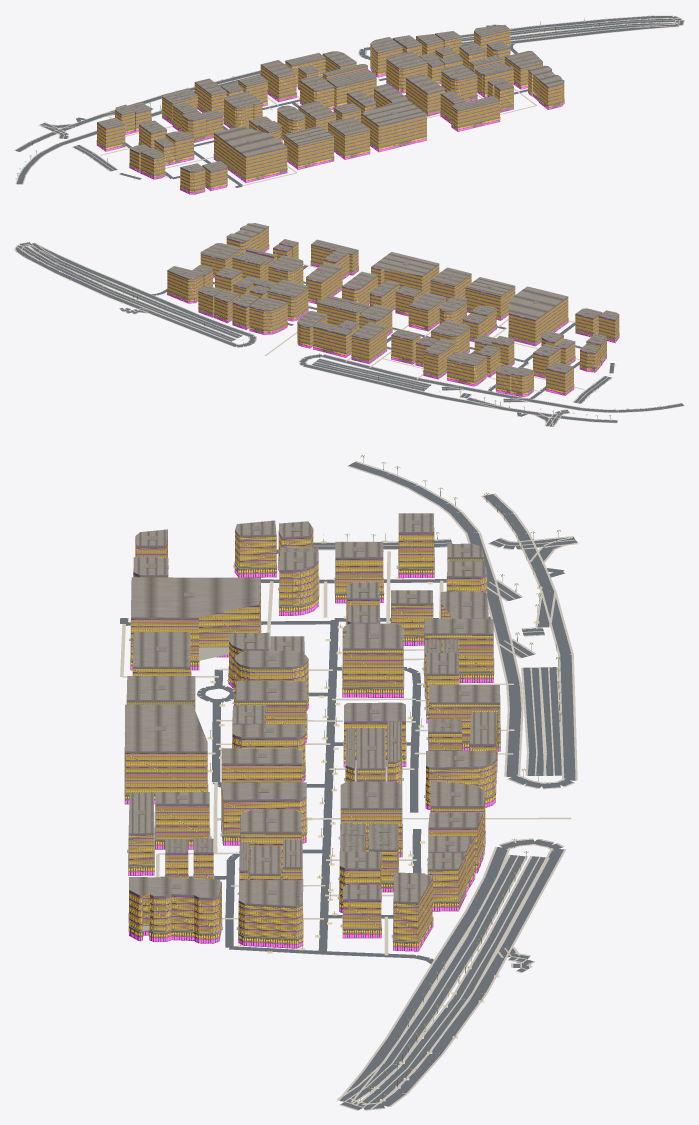
Rendered from urban-north-stage6.glb.
3 views of the same model, one above another, from view 1: azimuth 30°, elevation 25°; view 2: azimuth 150°, elevation 25°; view 3: azimuth 270°, elevation 25° (orthographic). The views are drawn at different scales.
Visible parts, largest first — view 1: urban-street-north-roads, urban-hotel-716-N163, urban-street-north-sidewalks, urban-hotel-702-N156, urban-hotel-704-N158, urban-hotel-2157-N157, urban-hotel-701-N103, urban-hotel-706-N101, urban-hotel-730-N132, urban-hotel-707-N115, urban-hotel-726-N142, urban-hotel-2116-N116 (+44 smaller); view 2: urban-street-north-roads, urban-street-north-sidewalks, urban-hotel-716-N163, urban-hotel-702-N156, urban-hotel-704-N158, urban-hotel-2127-N127, urban-hotel-730-N132, urban-hotel-2138-N138, urban-hotel-707-N115, urban-hotel-731-N130, urban-hotel-729-N123, urban-hotel-2116-N116 (+36 smaller); view 3: urban-street-north-roads, urban-street-north-sidewalks, urban-hotel-716-N163, urban-hotel-702-N156, urban-hotel-706-N101, urban-hotel-726-N142, urban-hotel-715-N109, urban-street-north-promenades, urban-hotel-707-N115, urban-hotel-2137-N137, urban-hotel-729-N123, urban-hotel-2116-N116 (+36 smaller).
Part boxes in pixels (box(x1,y1,x2,y2)): urban-street-north-roads: box(15, 16, 683, 187); urban-hotel-716-N163: box(213, 126, 287, 182); urban-street-north-sidewalks: box(14, 15, 684, 184); urban-hotel-702-N156: box(361, 99, 427, 152); urban-hotel-704-N158: box(284, 126, 334, 169); urban-hotel-2157-N157: box(328, 116, 370, 159); urban-hotel-701-N103: box(451, 96, 500, 131); urban-hotel-706-N101: box(528, 65, 564, 109); urban-hotel-730-N132: box(260, 60, 296, 101); urban-hotel-707-N115: box(405, 74, 444, 116); urban-hotel-726-N142: box(223, 91, 262, 128); urban-hotel-2116-N116: box(386, 51, 427, 93); urban-street-north-roads: box(15, 242, 683, 426); urban-street-north-sidewalks: box(14, 242, 684, 426); urban-hotel-716-N163: box(508, 286, 568, 346); urban-hotel-702-N156: box(371, 252, 439, 295); urban-hotel-704-N158: box(465, 277, 515, 320); urban-hotel-2127-N127: box(249, 296, 287, 334); urban-hotel-730-N132: box(351, 322, 387, 364); urban-hotel-2138-N138: box(446, 352, 486, 386); urban-hotel-707-N115: box(306, 263, 342, 304); urban-hotel-731-N130: box(313, 322, 352, 357); urban-hotel-729-N123: box(167, 266, 203, 303); urban-hotel-2116-N116: box(267, 279, 308, 321); urban-street-north-roads: box(120, 462, 577, 1109); urban-street-north-sidewalks: box(313, 461, 578, 1110); urban-hotel-716-N163: box(129, 577, 261, 670); urban-hotel-702-N156: box(124, 704, 208, 804); urban-hotel-706-N101: box(128, 877, 223, 943); urban-hotel-726-N142: box(342, 623, 404, 697); urban-hotel-715-N109: box(236, 880, 303, 948); urban-street-north-promenades: box(120, 551, 571, 955); urban-hotel-707-N115: box(220, 782, 307, 845); urban-hotel-2137-N137: box(422, 619, 494, 682); urban-hotel-729-N123: box(391, 872, 433, 951); urban-hotel-2116-N116: box(338, 781, 402, 857).
Size of the model in its own units: 1292 by 49.18 by 386.
Materials: 8 (1 with a texture image).
